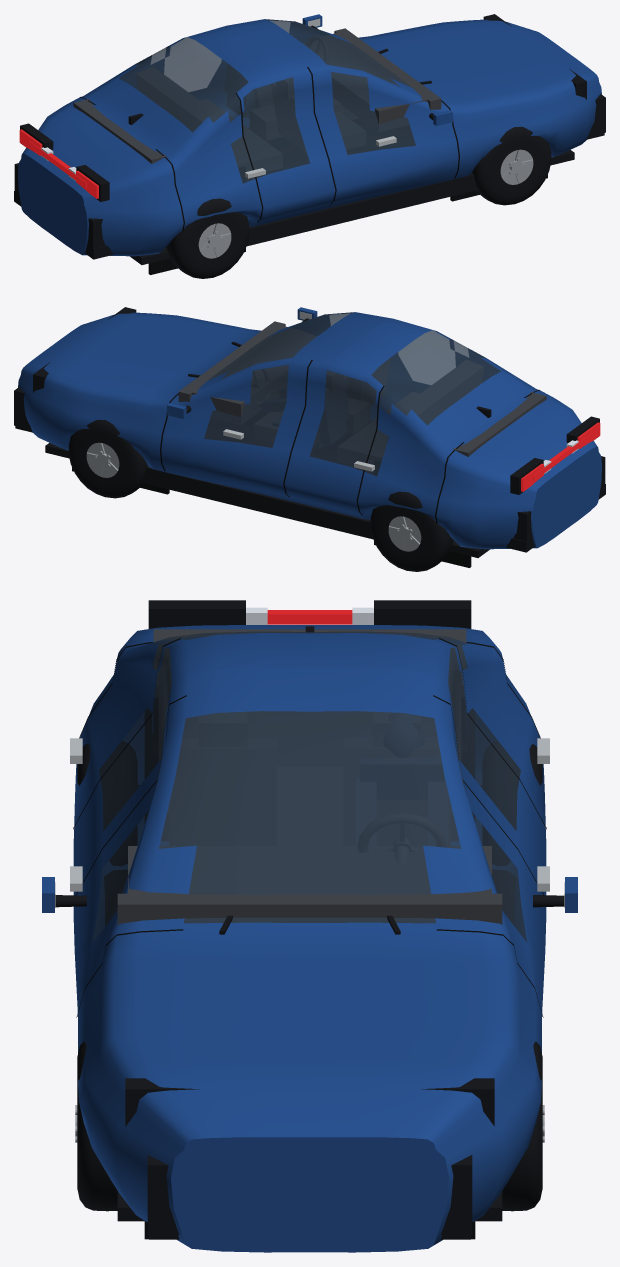
Rendered from player_car.glb.
The picture shows the model from 3 angles, top to bottom: view 1: azimuth 30°, elevation 25°; view 2: azimuth 150°, elevation 25°; view 3: azimuth 270°, elevation 25°; orthographic projection. The views are drawn at different scales.
Parts seen in each view (by area): view 1: Node (×21); view 2: Node (×21); view 3: Node (×25).
Part boxes in pixels (x1=…): Node (×21): x1=14, y1=19, x2=605, y2=278; Node (×21): x1=14, y1=312, x2=605, y2=571; Node (×25): x1=73, y1=600, x2=546, y2=1252.
Size of the model in its own units: 4.64 by 1.46 by 2.09.
